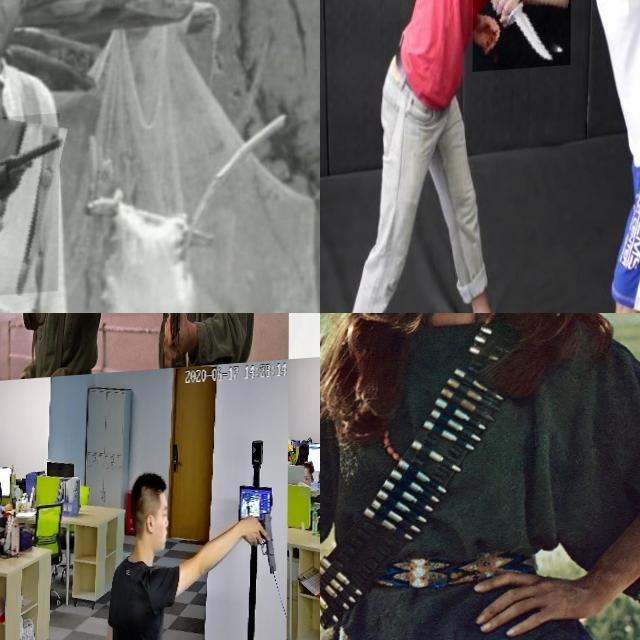-: (473, 0, 571, 75)
gun-knife-thesis - v11 Yolov5 augmented: (320, 313, 424, 640), (0, 118, 59, 303), (0, 313, 58, 378), (247, 512, 277, 582), (166, 313, 181, 362)
